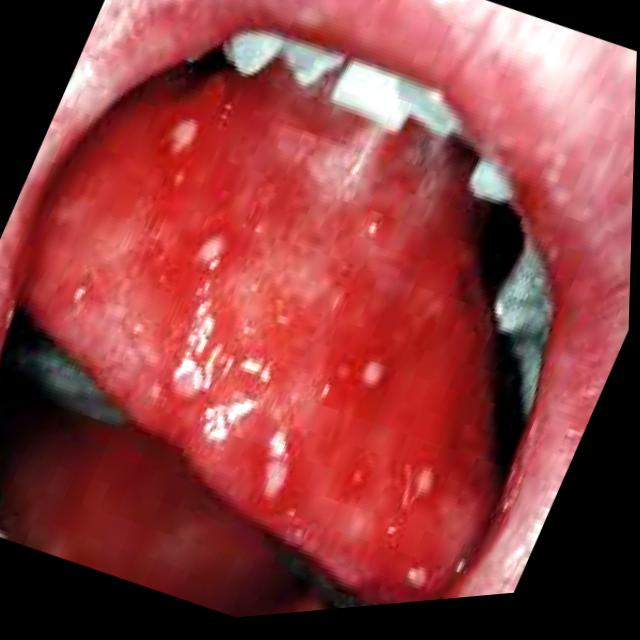ulcer: (188, 388, 404, 554), (271, 124, 384, 210), (162, 120, 198, 152), (196, 238, 221, 269), (359, 362, 380, 385)
